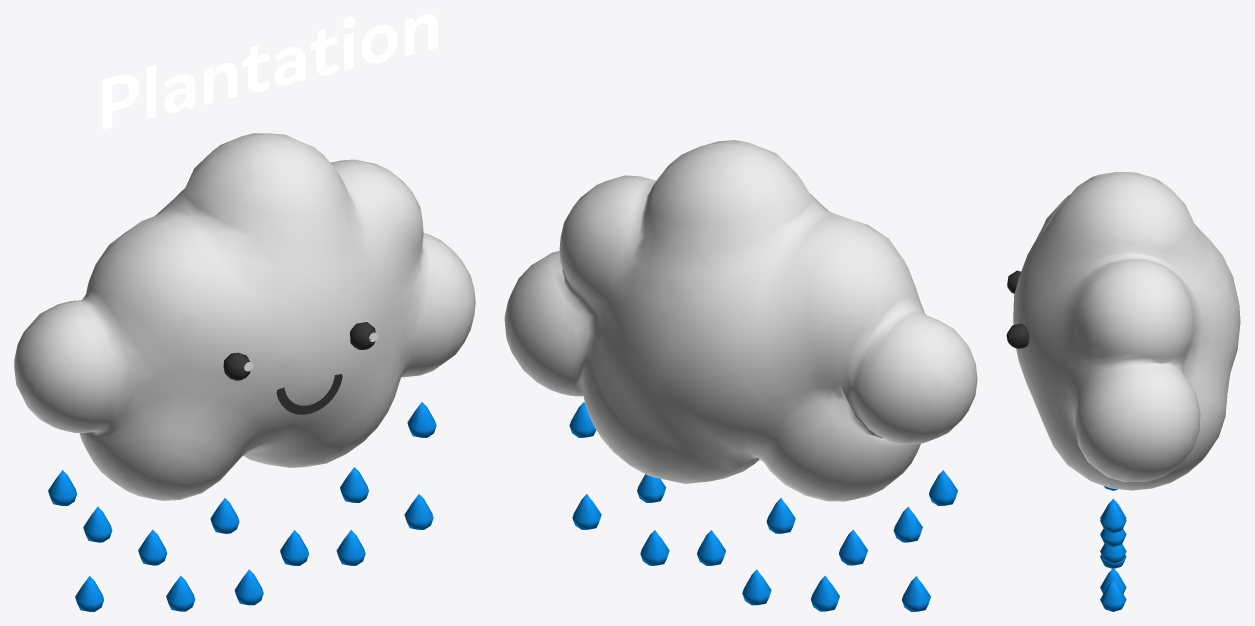
The model's file is rainy_plantation2.glb.
The picture shows the model from 3 angles, left to right: view 1: azimuth 30°, elevation 25°; view 2: azimuth 150°, elevation 25°; view 3: azimuth 270°, elevation 25°; orthographic projection. The views are drawn at different scales.
Visible parts, largest first — view 1: PM3D_Sphere3D4, PM3D_Sphere3D1_1, Plantation, PM3D_Sphere3D5; view 2: PM3D_Sphere3D4, PM3D_Sphere3D1_1; view 3: PM3D_Sphere3D4, PM3D_Sphere3D1_1, PM3D_Sphere3D5.
Boxes of the visible parts, x1=… form: PM3D_Sphere3D4: x1=14, y1=133, x2=475, y2=500; PM3D_Sphere3D1_1: x1=48, y1=402, x2=436, y2=611; Plantation: x1=102, y1=14, x2=437, y2=129; PM3D_Sphere3D5: x1=223, y1=322, x2=377, y2=414; PM3D_Sphere3D4: x1=504, y1=140, x2=977, y2=501; PM3D_Sphere3D1_1: x1=569, y1=402, x2=957, y2=611; PM3D_Sphere3D4: x1=1013, y1=172, x2=1240, y2=490; PM3D_Sphere3D1_1: x1=1100, y1=486, x2=1126, y2=611; PM3D_Sphere3D5: x1=1006, y1=270, x2=1029, y2=348.
Bounding box in the file's own units: 6.83 × 8.22 × 3.52.
4 materials, 4 textured.
